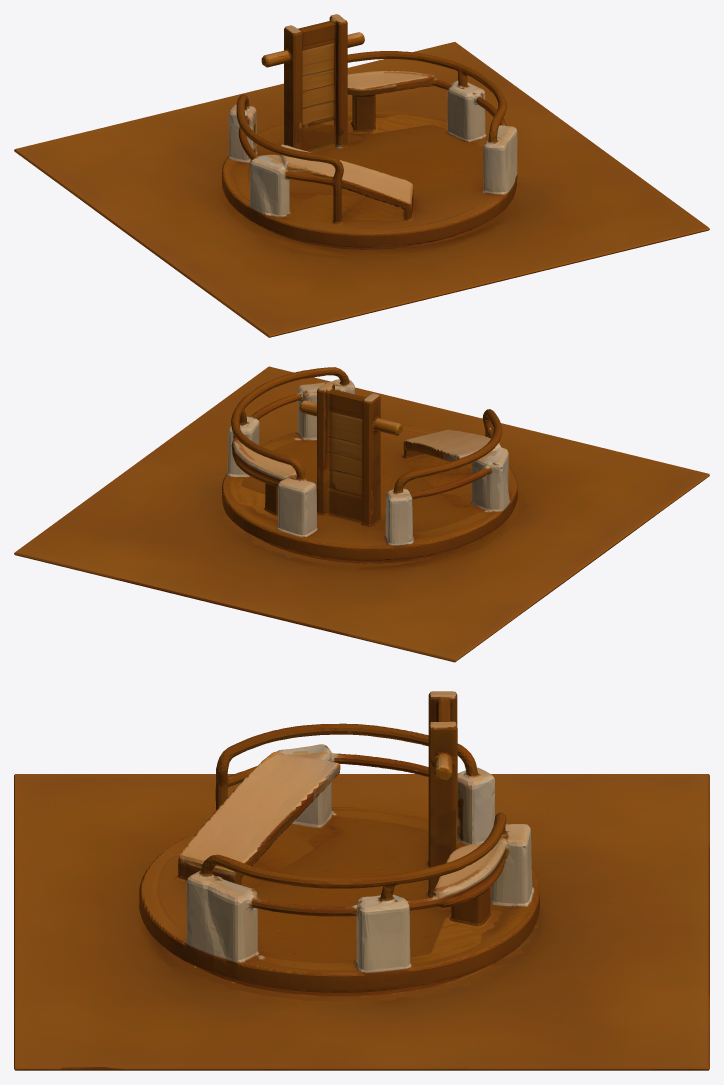
Rendered from room-06-stretch-pod.glb.
3 renders of one model, top to bottom at view 1: azimuth 30°, elevation 25°; view 2: azimuth 150°, elevation 25°; view 3: azimuth 270°, elevation 25°, orthographic. The views are drawn at different scales.
Visible parts, largest first — view 1: textured_mesh.obj; view 2: textured_mesh.obj; view 3: textured_mesh.obj.
Part boxes in pixels (x1,y1,x2,y2): textured_mesh.obj: (14, 14, 709, 337); textured_mesh.obj: (14, 366, 709, 662); textured_mesh.obj: (14, 691, 709, 1070).
Size of the model in its own units: 3.66 by 1.2 by 3.66.
Materials: 1 (1 with a texture image).
